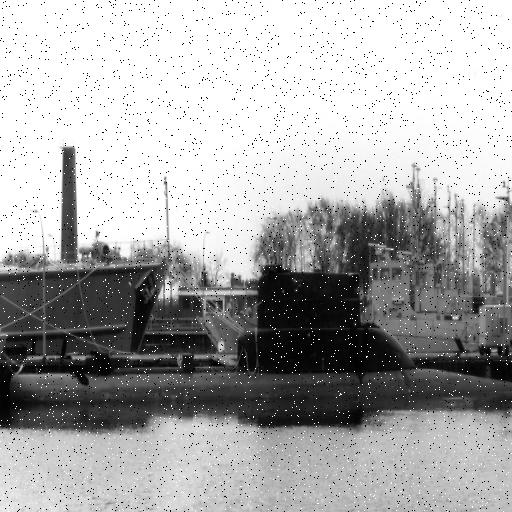submarine: (10, 265, 512, 407)
